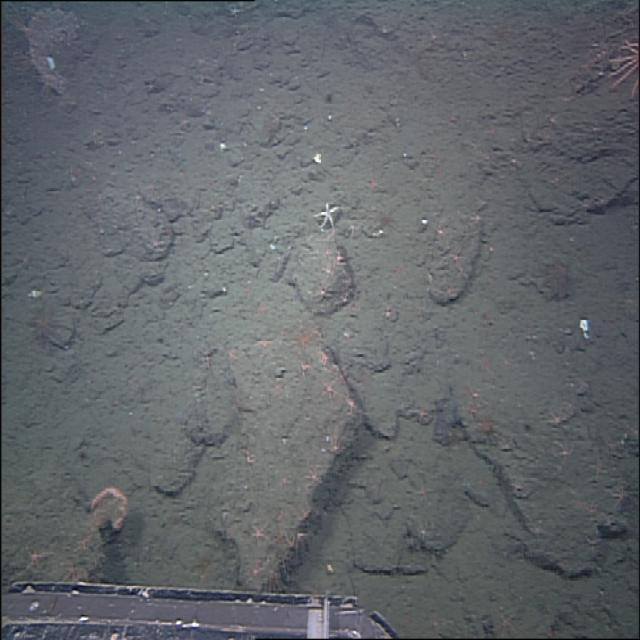Brittle Star: (317, 371, 341, 403), (445, 244, 466, 276), (247, 515, 269, 545)
Not Brittle Star: (90, 481, 130, 533), (312, 198, 343, 233)
